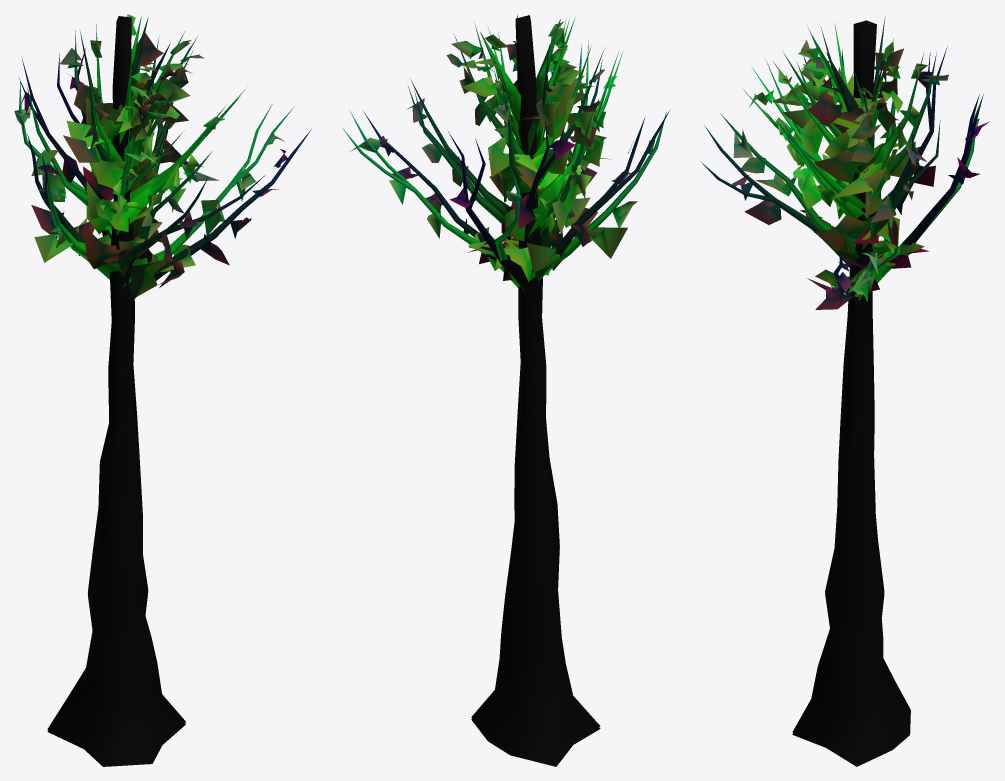
File: arbol_LOD1.fbx
3 views of the same model, side by side, from view 1: azimuth 30°, elevation 25°; view 2: azimuth 150°, elevation 25°; view 3: azimuth 270°, elevation 25° (orthographic).
Visible parts, largest first — view 1: _0, _1; view 2: _0, _1; view 3: _0, _1.
Part boxes in pixels (x1,y1,x2,y2): _0: [18, 16, 311, 766]; _1: [14, 14, 287, 298]; _0: [342, 14, 669, 766]; _1: [350, 21, 655, 281]; _0: [700, 16, 983, 766]; _1: [732, 40, 989, 309].
Size of the model in its own units: 63.74 by 151 by 55.54.
